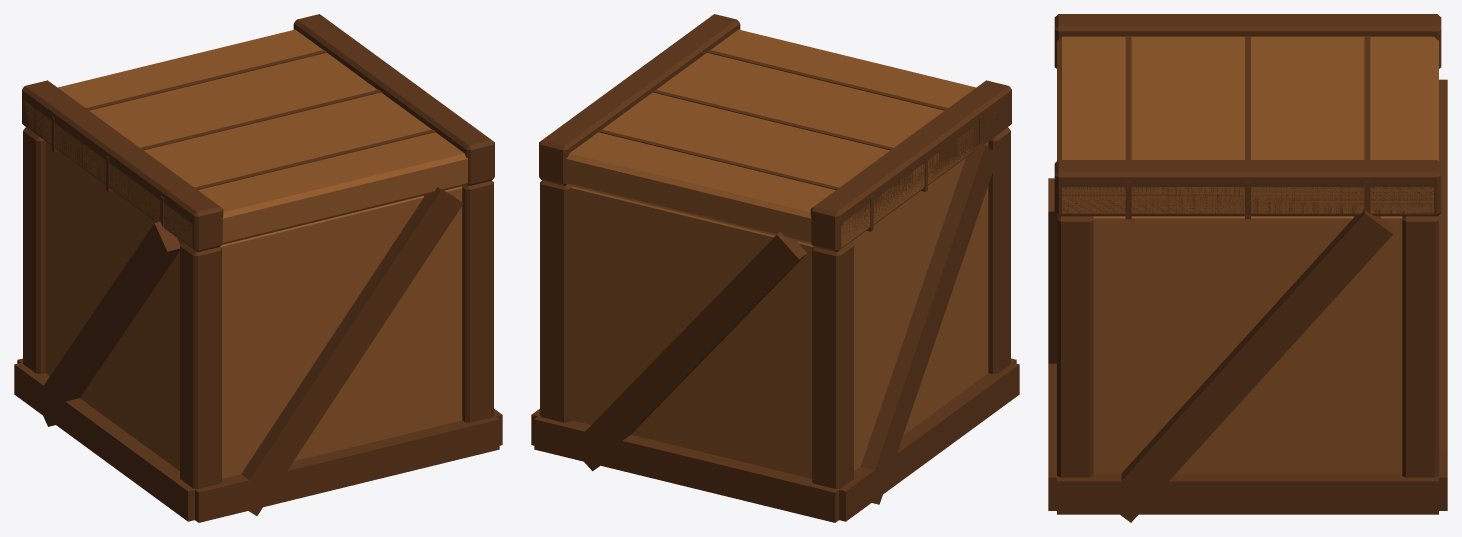
The model's file is crate.glb.
The picture shows the model from 3 angles, left to right: view 1: azimuth 30°, elevation 25°; view 2: azimuth 150°, elevation 25°; view 3: azimuth 270°, elevation 25°; orthographic projection. The views are drawn at different scales.
Parts seen in each view (by area): view 1: Crate, Lid; view 2: Crate, Lid; view 3: Crate, Lid.
Part boxes in pixels (x1=…): Crate: x1=14, y1=127, x2=502, y2=522; Lid: x1=22, y1=14, x2=494, y2=252; Crate: x1=531, y1=127, x2=1019, y2=522; Lid: x1=539, y1=14, x2=1011, y2=252; Crate: x1=1048, y1=79, x2=1447, y2=522; Lid: x1=1054, y1=14, x2=1441, y2=219.
Size of the model in its own units: 0.815 by 0.779 by 0.815.
